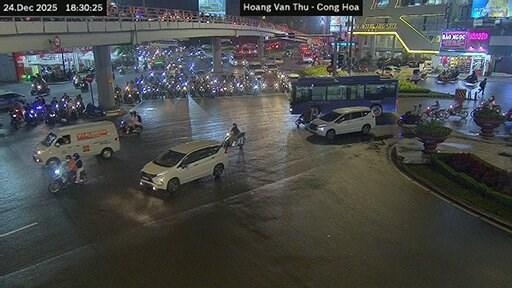motorbike: (48, 166, 86, 193), (470, 100, 501, 117), (221, 131, 245, 148), (396, 111, 422, 126), (438, 104, 467, 117), (294, 111, 316, 126), (118, 121, 141, 134), (44, 104, 58, 124), (9, 108, 22, 129), (83, 103, 105, 115), (435, 71, 458, 82), (31, 81, 48, 94), (25, 108, 38, 125), (422, 106, 442, 117), (461, 77, 477, 88), (73, 99, 83, 115), (73, 73, 82, 88), (502, 108, 511, 121), (79, 81, 88, 90), (118, 67, 124, 73)
